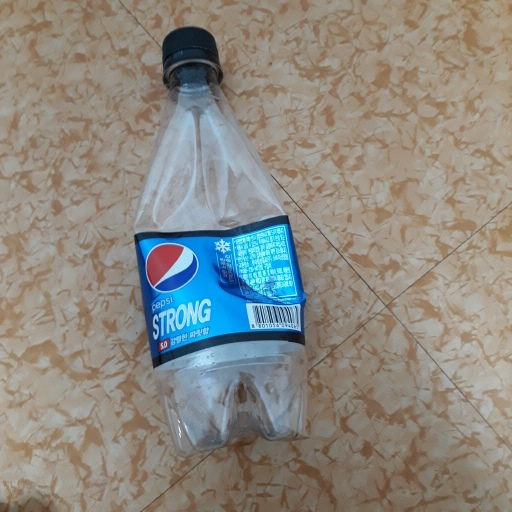Plastic_0: (129, 26, 310, 450)
